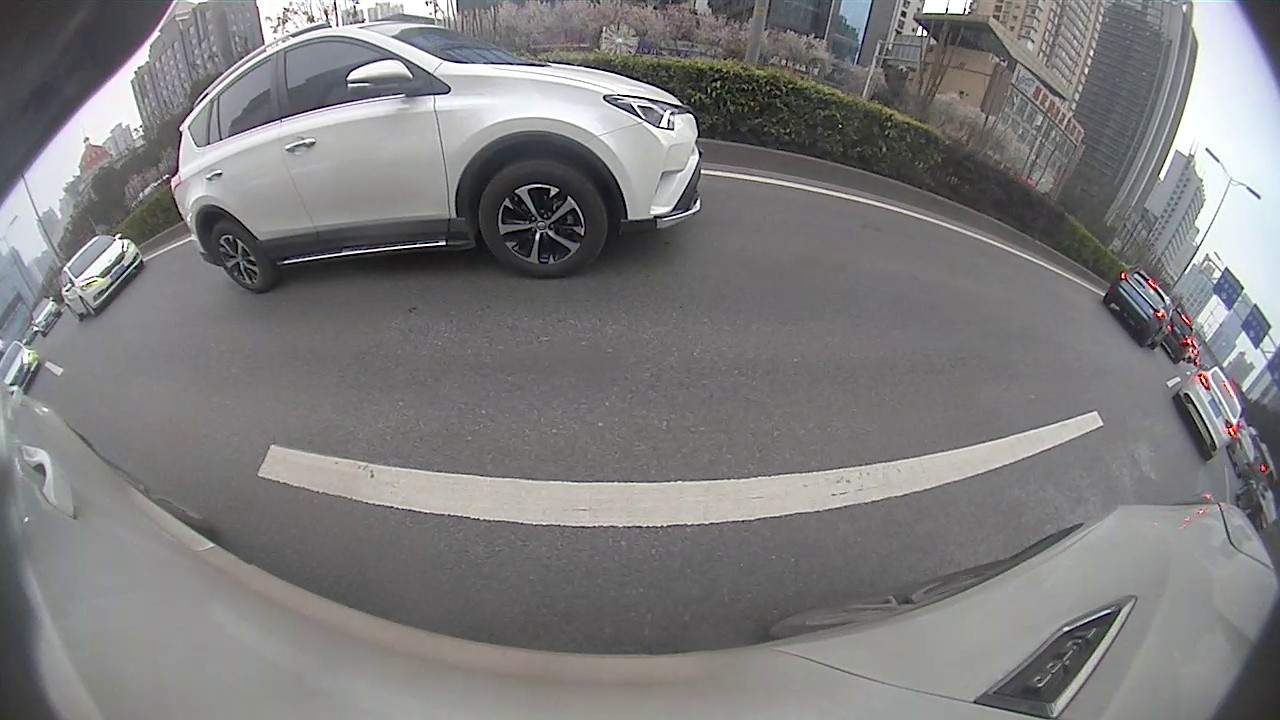car: (22, 146, 447, 448), (1006, 219, 1082, 264), (1231, 347, 1277, 390), (1085, 254, 1131, 287), (1126, 275, 1157, 305), (1161, 292, 1188, 322), (731, 162, 761, 184), (617, 160, 645, 182), (662, 161, 686, 181), (576, 165, 602, 181)
front: (415, 212, 451, 265), (1023, 234, 1038, 251)
rear: (167, 300, 270, 409), (1064, 250, 1076, 266)
